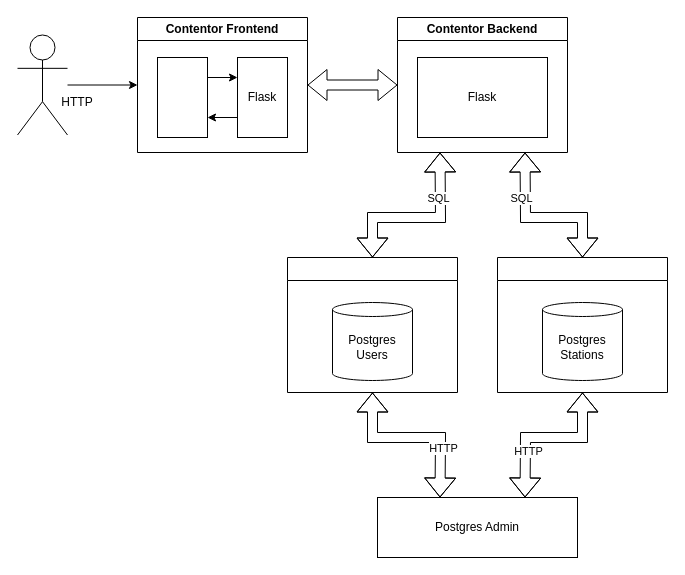
This 685x575 diagram has some shape labels left out. The box of each missing label's shape, as (x1, y1, x2, y2) in pixels:
Contentor Postgres Stations: (496, 256, 668, 392)
Contentor Postgres Users: (286, 256, 458, 392)
UI: (156, 56, 208, 138)
Utilizador: (16, 34, 68, 135)
